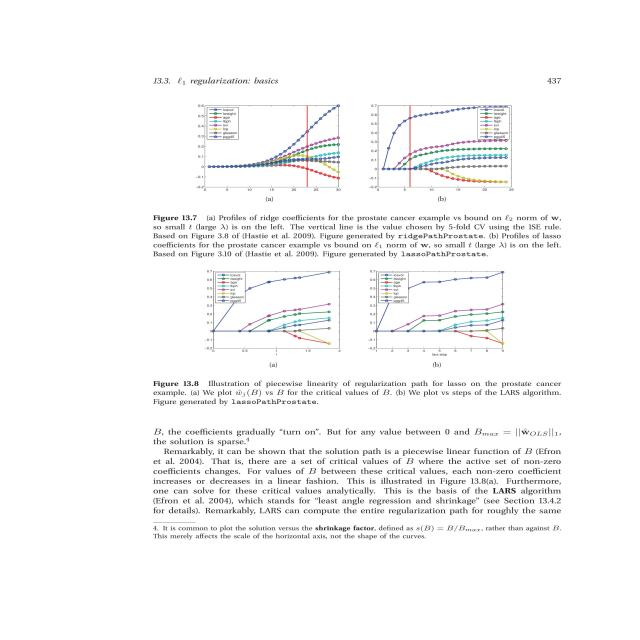diagram: (115, 94, 592, 262), (111, 255, 590, 413)
